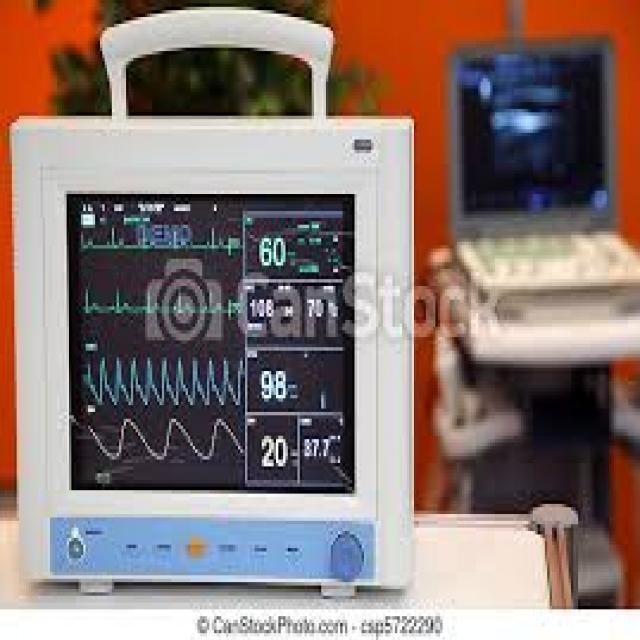cardiac_monitor: (5, 91, 411, 598)
